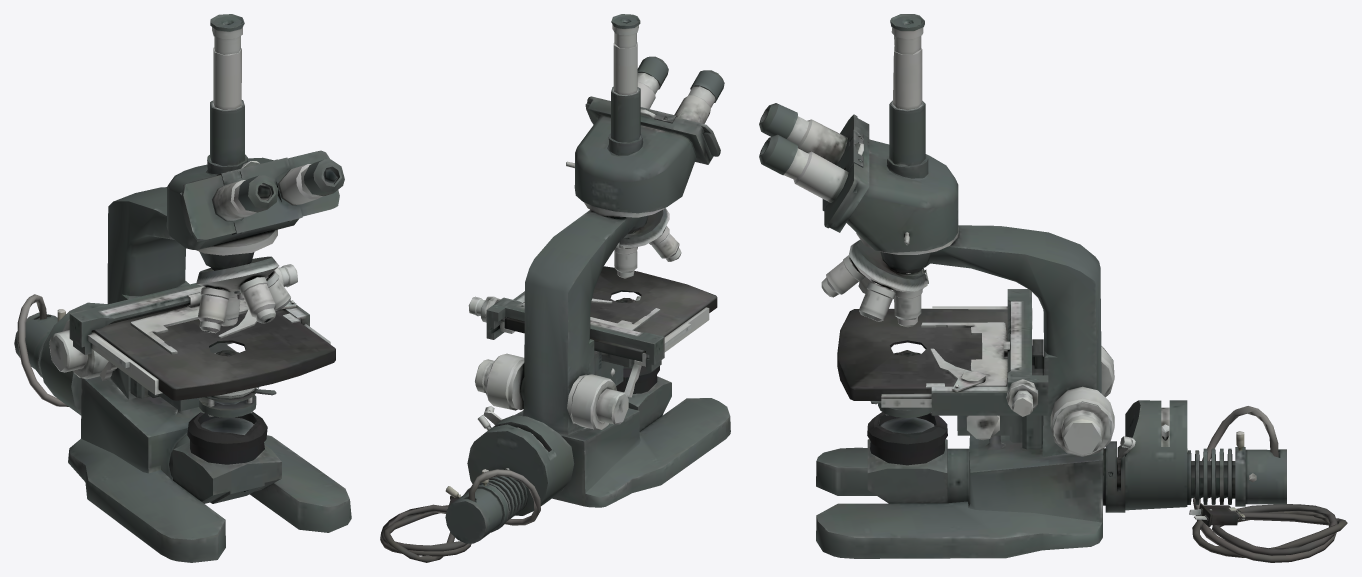
File: industrial_microscope.glb
3 views of the same model, side by side, from view 1: azimuth 30°, elevation 25°; view 2: azimuth 150°, elevation 25°; view 3: azimuth 270°, elevation 25° (orthographic). The views are drawn at different scales.
Parts seen in each view (by area): view 1: industrial_microscope_cable; view 2: industrial_microscope_cable; view 3: industrial_microscope_cable.
Part boxes in pixels (x1,y1,x2,y2): industrial_microscope_cable: (14, 14, 351, 562); industrial_microscope_cable: (380, 14, 730, 562); industrial_microscope_cable: (759, 14, 1347, 562).
Size of the model in its own units: 0.2145 by 0.4617 by 0.4981.
Materials: 1 (1 with a texture image).
